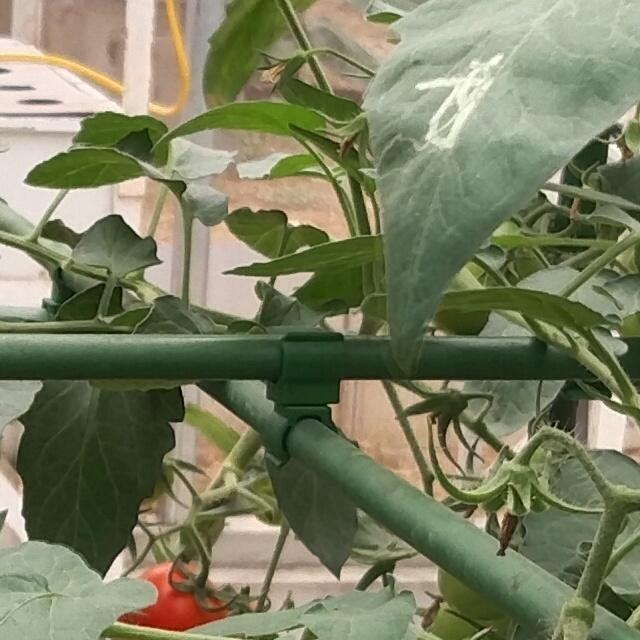Healthy: (18, 373, 190, 582)
Leaf_Miner: (363, 0, 640, 385)
